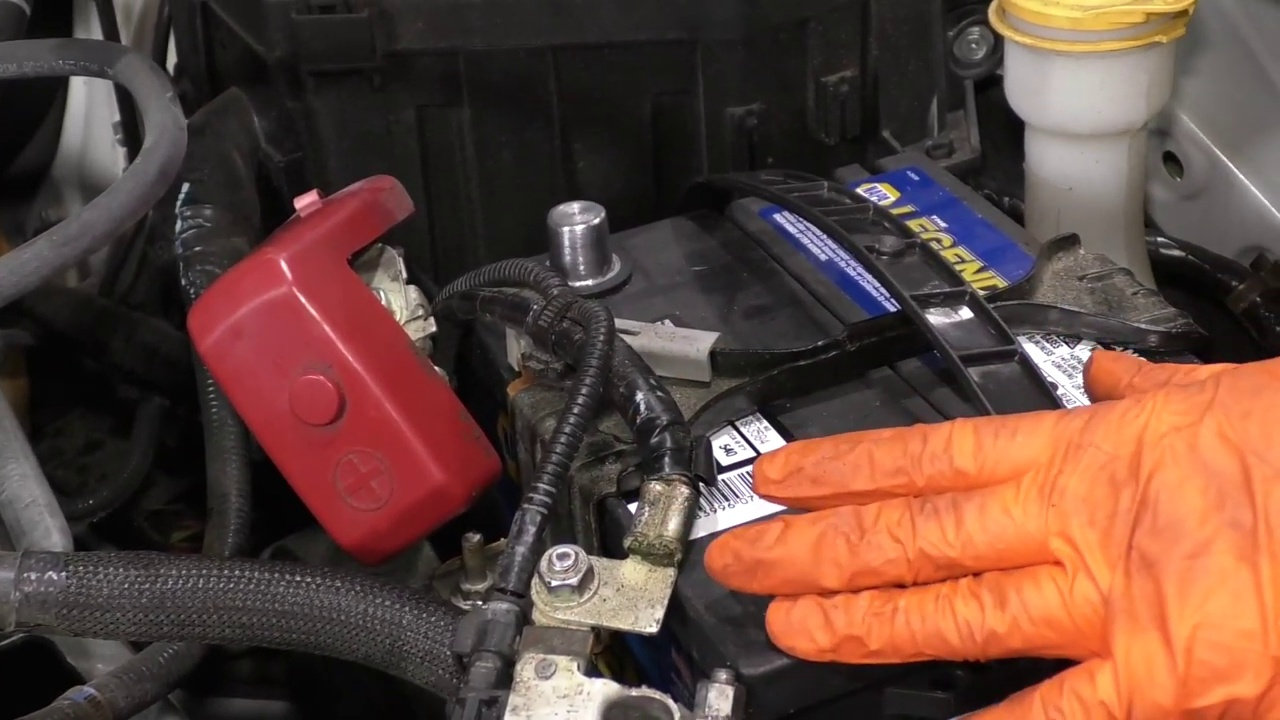battery: (441, 153, 1208, 673)
pos_disconnected: (237, 134, 648, 449)
